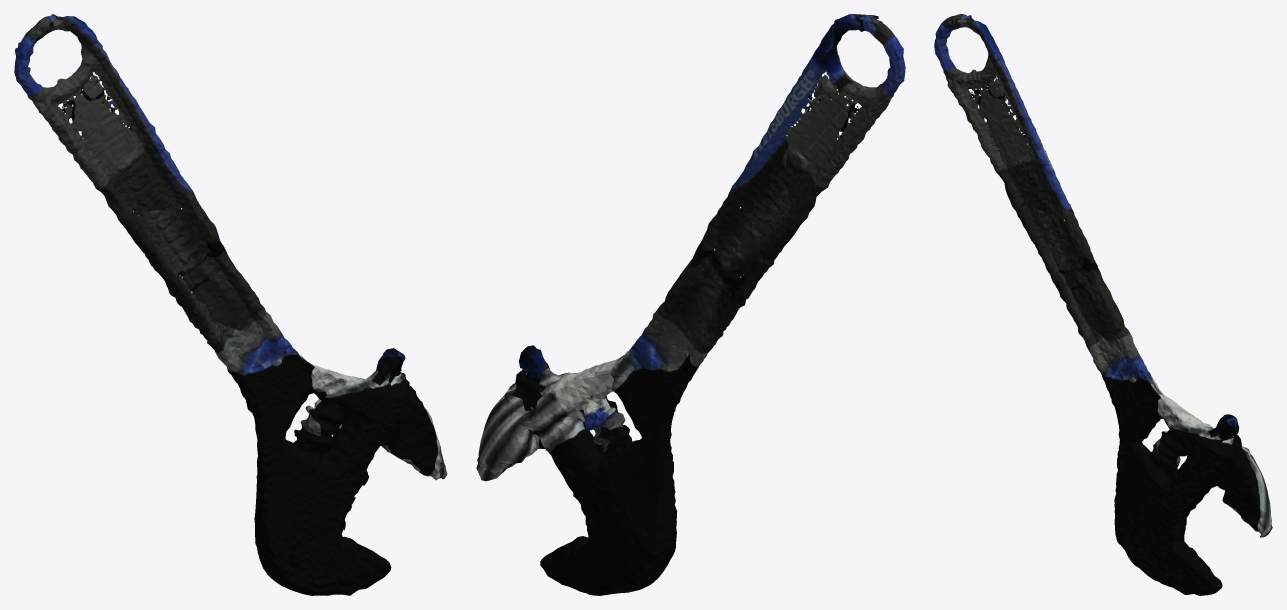
The picture shows the model from 3 angles, left to right: view 1: azimuth 30°, elevation 25°; view 2: azimuth 150°, elevation 25°; view 3: azimuth 330°, elevation 25°; orthographic projection. The views are drawn at different scales.
Visible parts, largest first — view 1: node; view 2: node; view 3: node.
Boxes of the visible parts, bbox=[...] form: node: bbox=[14, 14, 447, 595]; node: bbox=[476, 14, 905, 595]; node: bbox=[934, 14, 1272, 595].
Size of the model in its own units: 0.1248 by 0.1811 by 0.0147.
